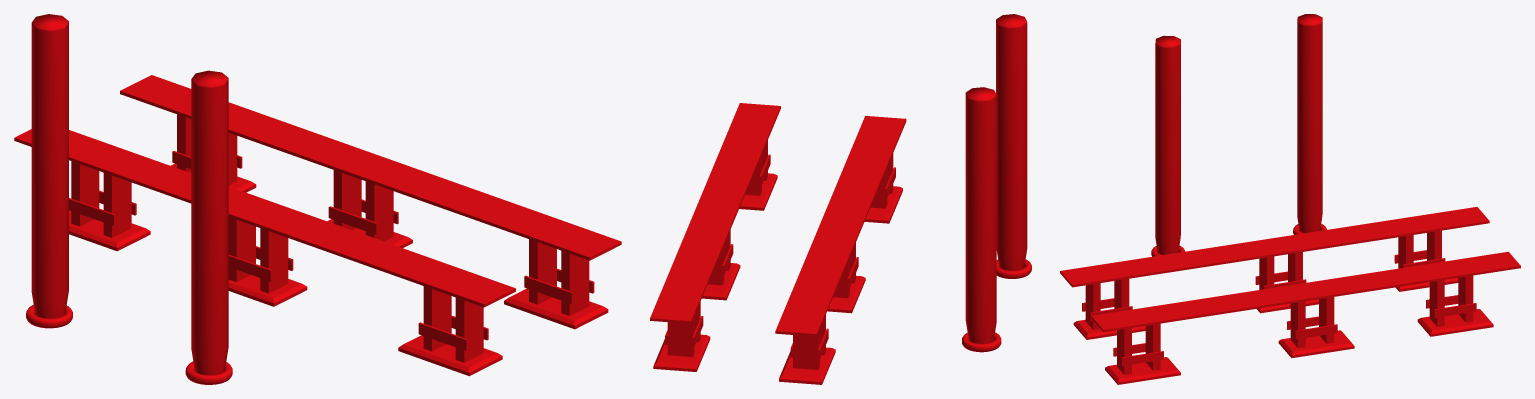
Rendered from Secondary waiting place.fbx.
3 views of the same model, side by side, from view 1: azimuth 30°, elevation 25°; view 2: azimuth 150°, elevation 25°; view 3: azimuth 270°, elevation 25° (orthographic). The views are drawn at different scales.
Parts seen in each view (by area): view 1: Lobby; view 2: Lobby; view 3: Lobby.
Part boxes in pixels (x1=…): Lobby: x1=14, y1=14, x2=621, y2=384; Lobby: x1=650, y1=14, x2=1031, y2=384; Lobby: x1=1060, y1=14, x2=1520, y2=384.
Bounding box in the file's own units: 301 × 190 × 369.
